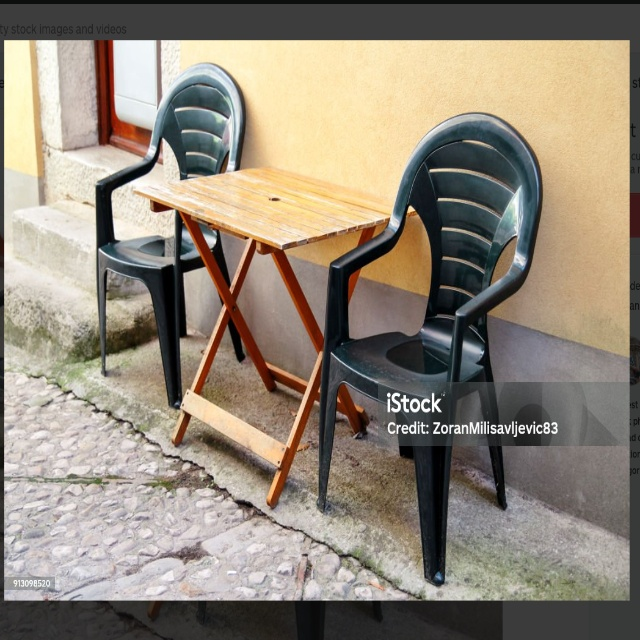obstacle: (315, 112, 545, 587), (139, 159, 407, 508), (92, 54, 249, 398)
